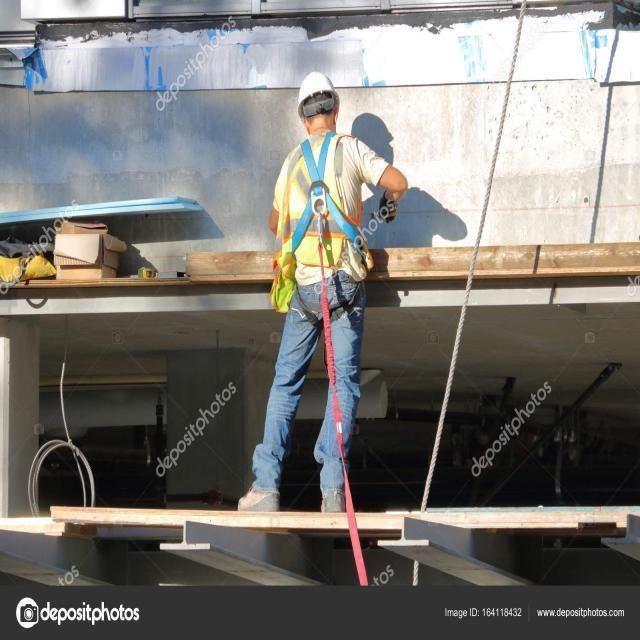Arnes_seguridad: (286, 137, 366, 323)
